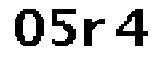0: (11, 7, 47, 52)
4: (114, 4, 151, 52)
5: (48, 4, 79, 51)
r: (80, 15, 112, 54)
